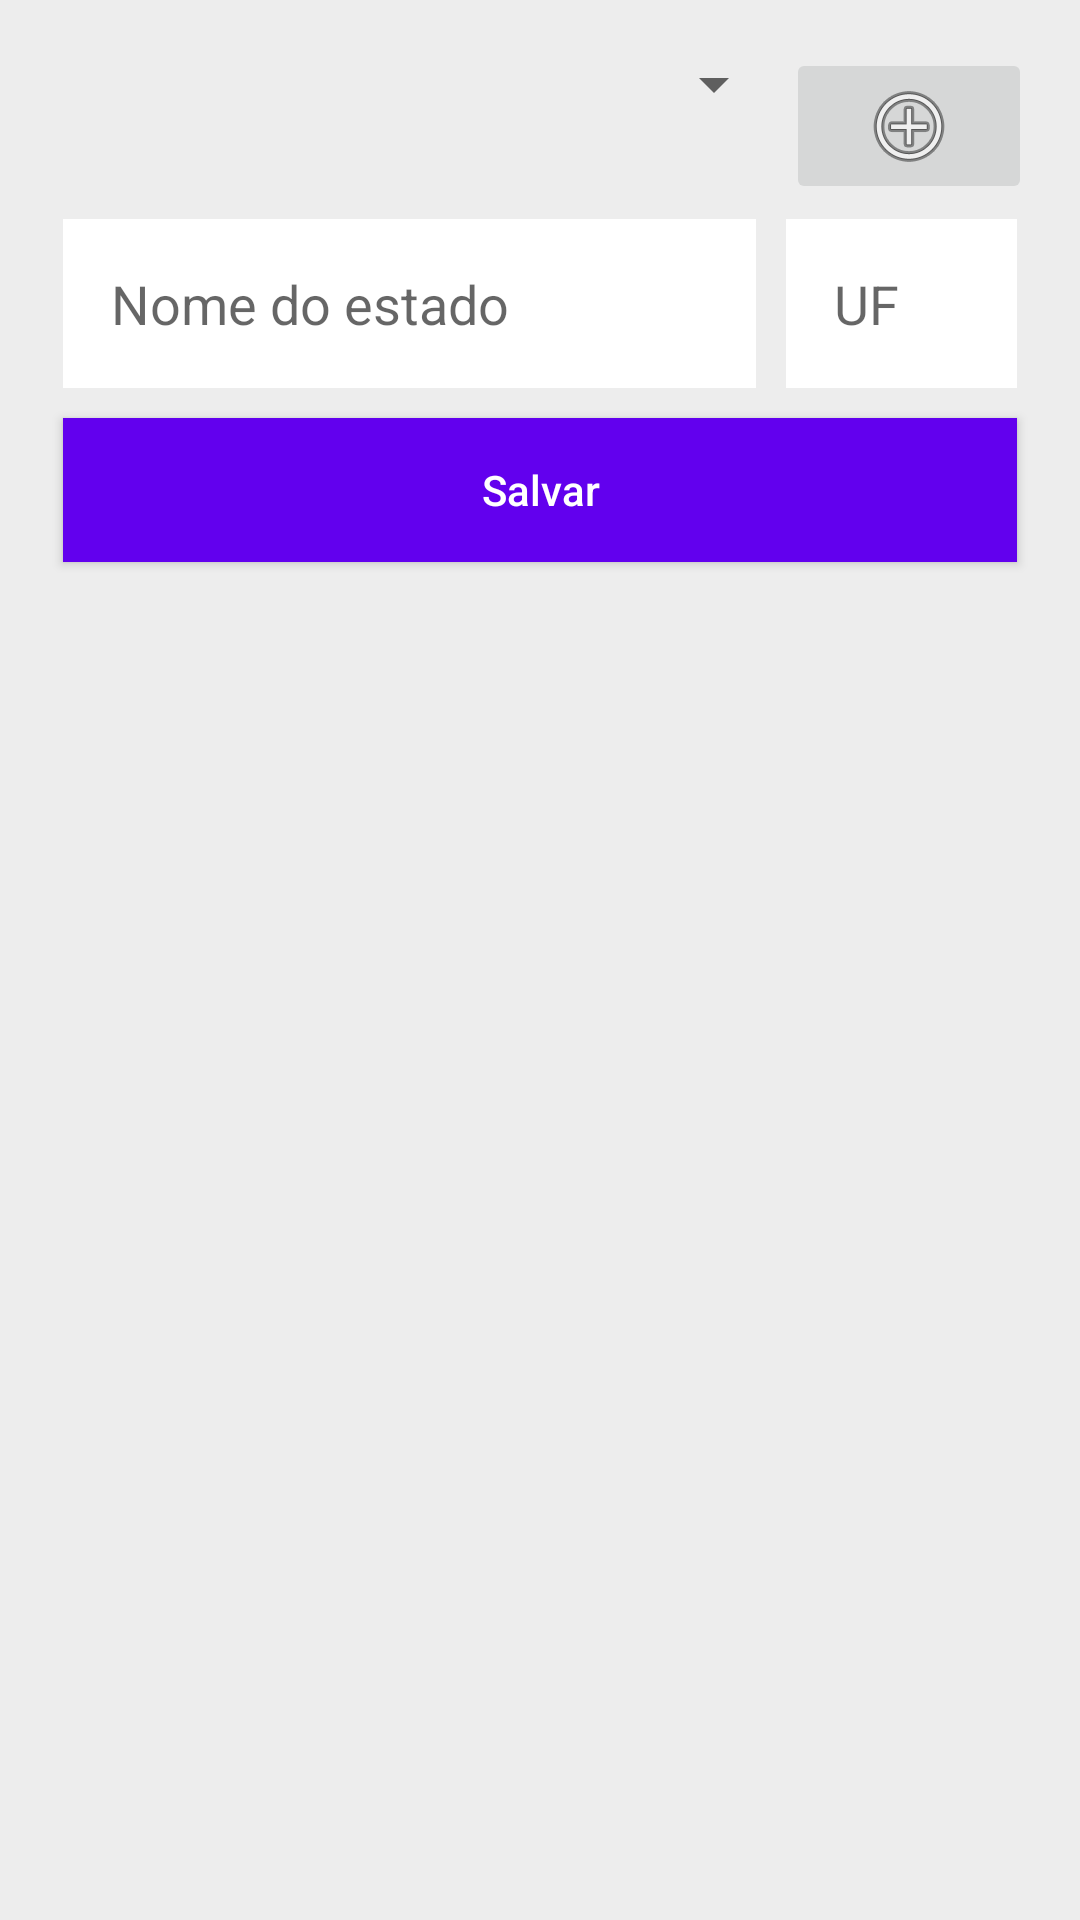

Locate icon controls on the screen. Image size 1080 × 1920, boxes as (x1, y1, x2, y2).
add: (798, 66, 1020, 186)
